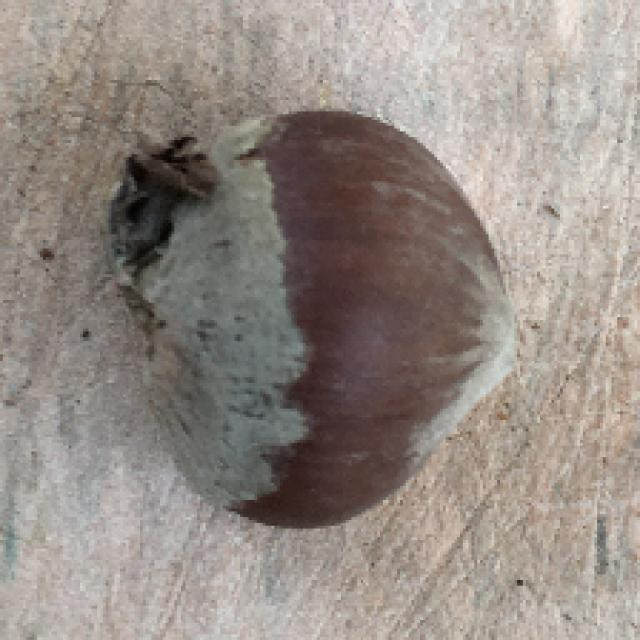damagedHazelnut: (99, 108, 537, 523)
